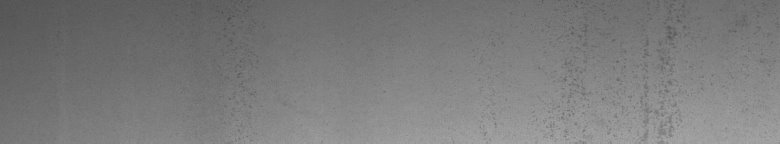ib: (544, 16, 737, 136)
